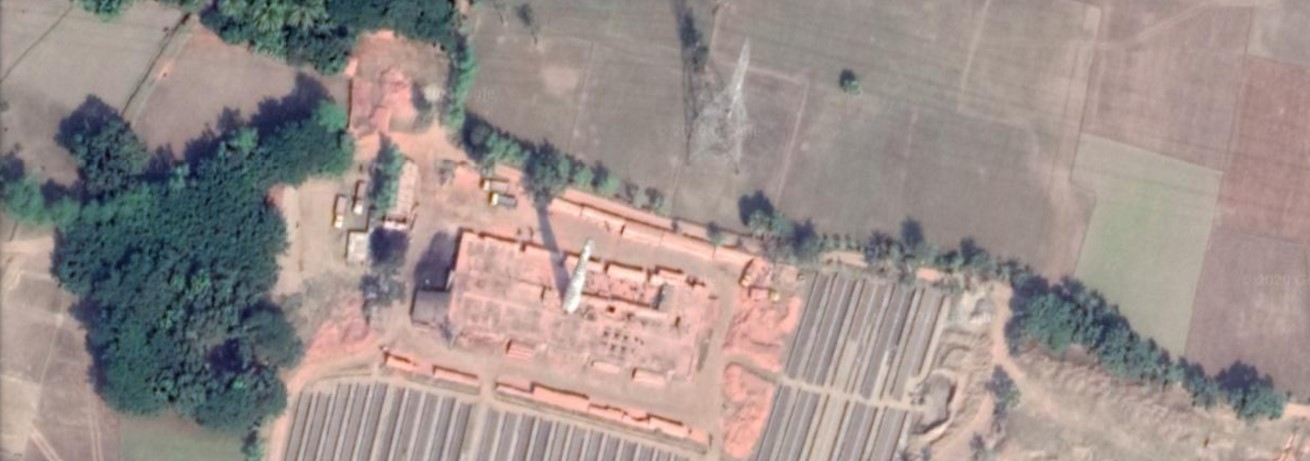kiln: (453, 216, 704, 385)
